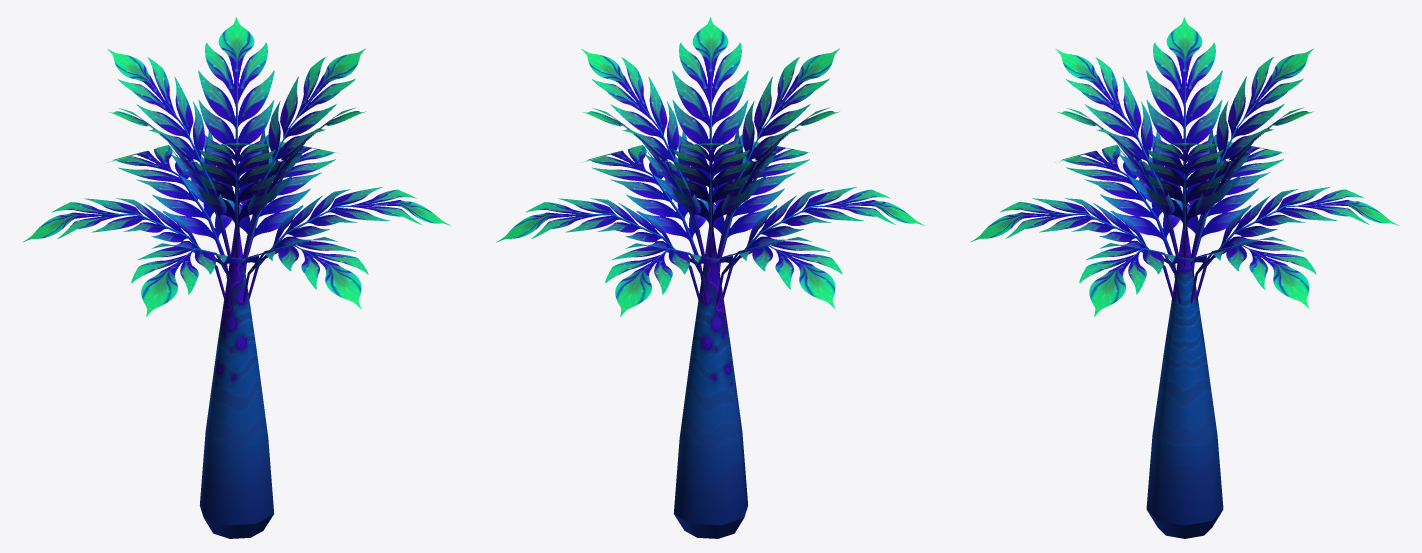
File: Blue_Tree_07c.FBX
The picture shows the model from 3 angles, left to right: view 1: azimuth 30°, elevation 25°; view 2: azimuth 150°, elevation 25°; view 3: azimuth 270°, elevation 25°; orthographic projection.
Visible parts, largest first — view 1: Blue_Tree_07c; view 2: Blue_Tree_07c; view 3: Blue_Tree_07c.
Part boxes in pixels (bbox=[...]): Blue_Tree_07c: bbox=[22, 17, 450, 538]; Blue_Tree_07c: bbox=[496, 17, 924, 538]; Blue_Tree_07c: bbox=[971, 17, 1398, 538].
Bounding box in the file's own units: 421 × 483 × 428.
